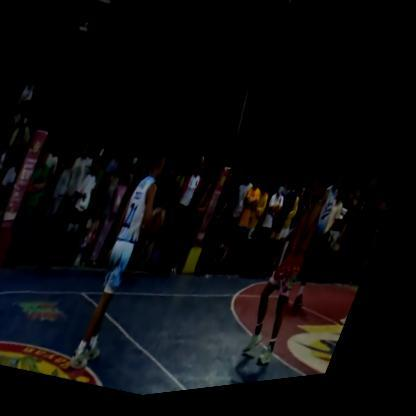basketball: (141, 198, 177, 255)
